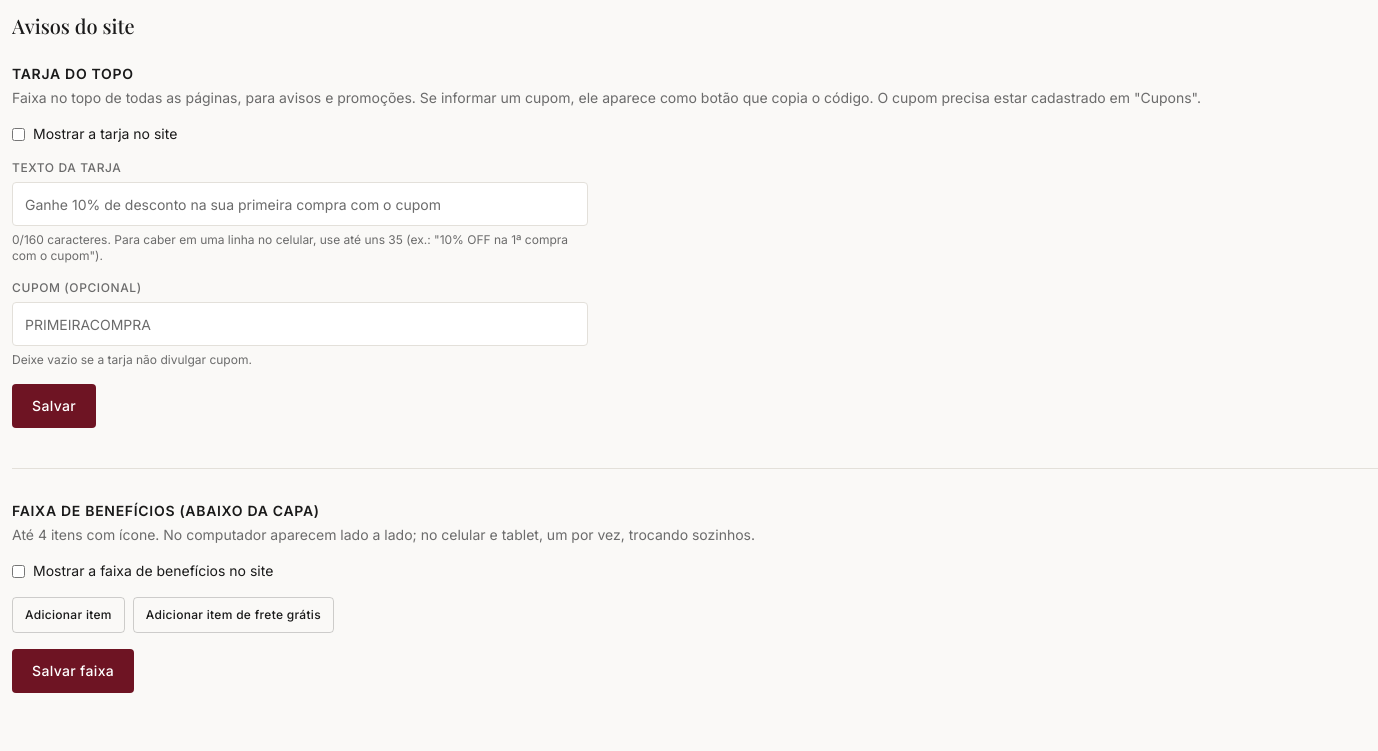
AdminTarja › mostra o erro do backend quando o cupom nao existe
This screenshot has width=1378, height=751.
Type "Oi" into the field labelled "Texto da tarja" at [300, 204], box [12,182,588,226]
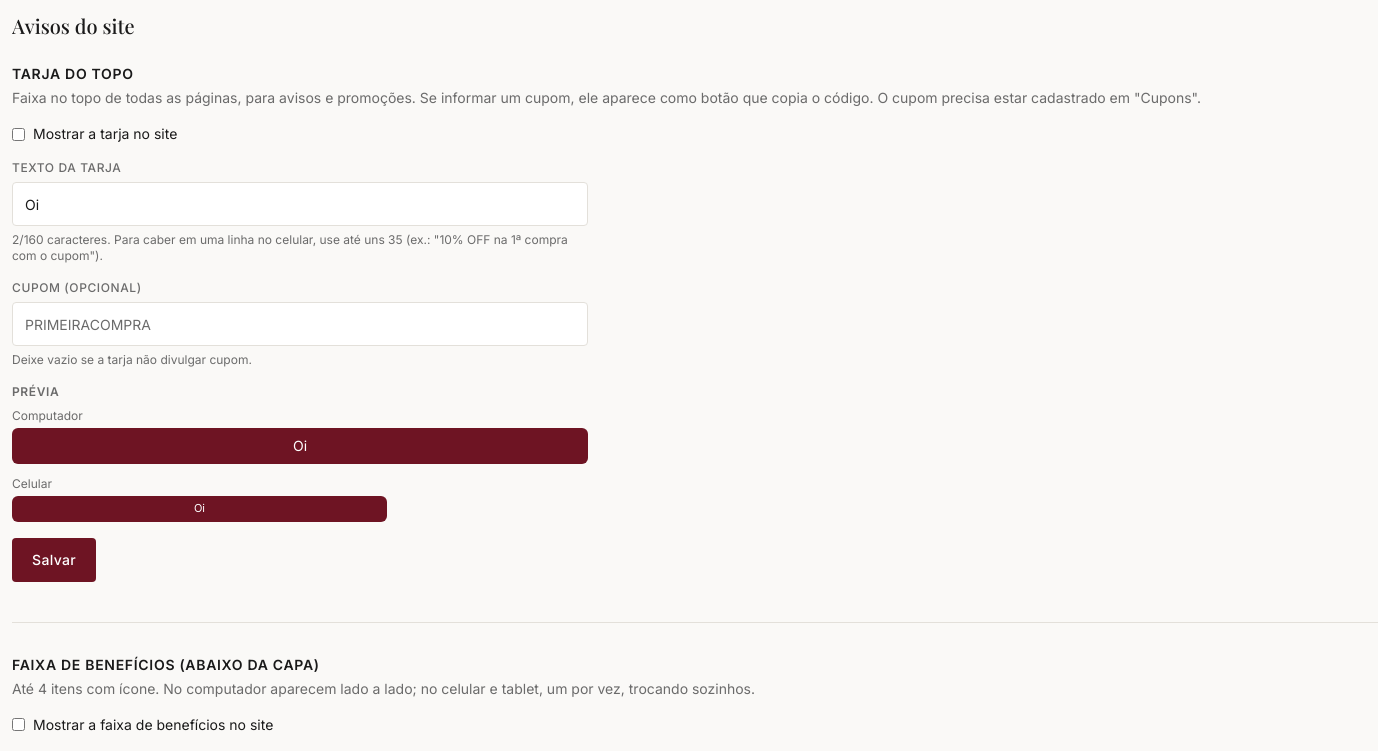
Type "xyz" into the field labelled "Cupom (opcional)" at [300, 324], box [12,302,588,346]
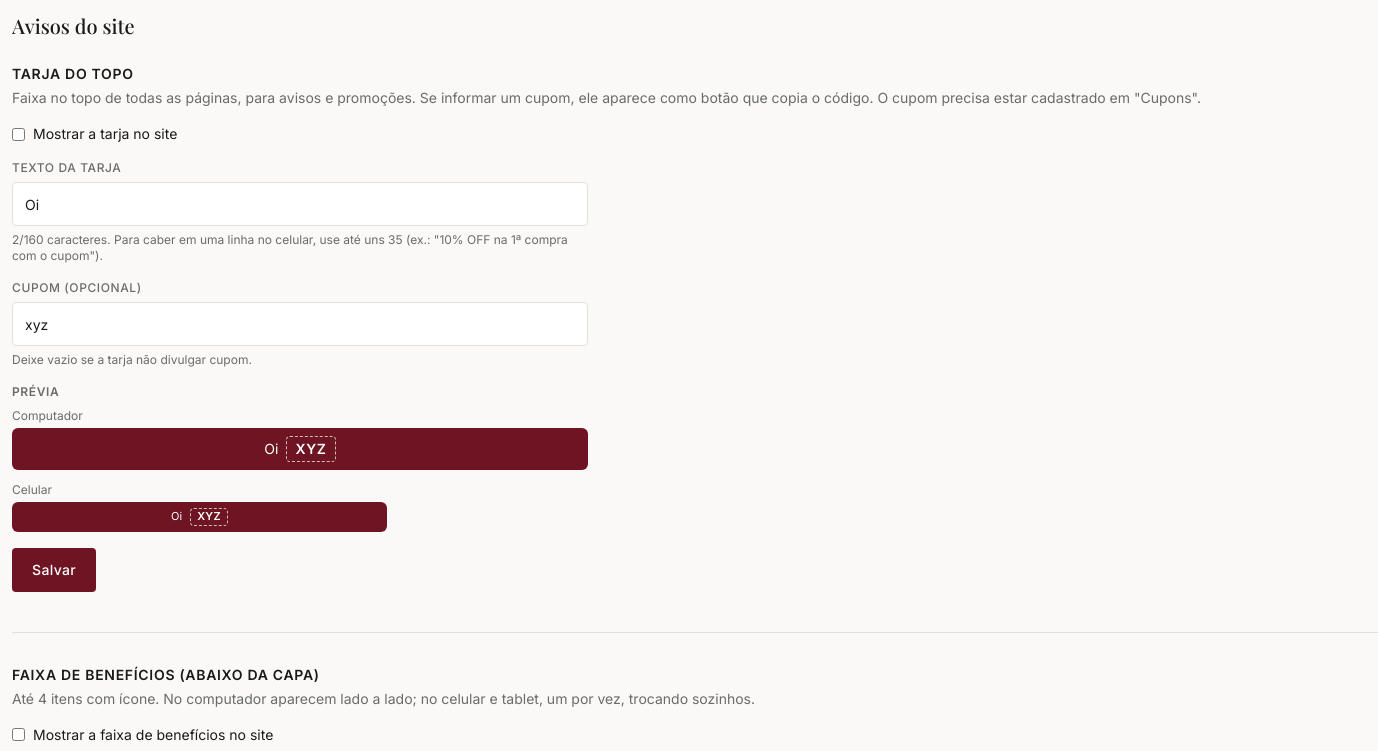
Click the button "Salvar" at [54, 570], box [12,548,96,592]
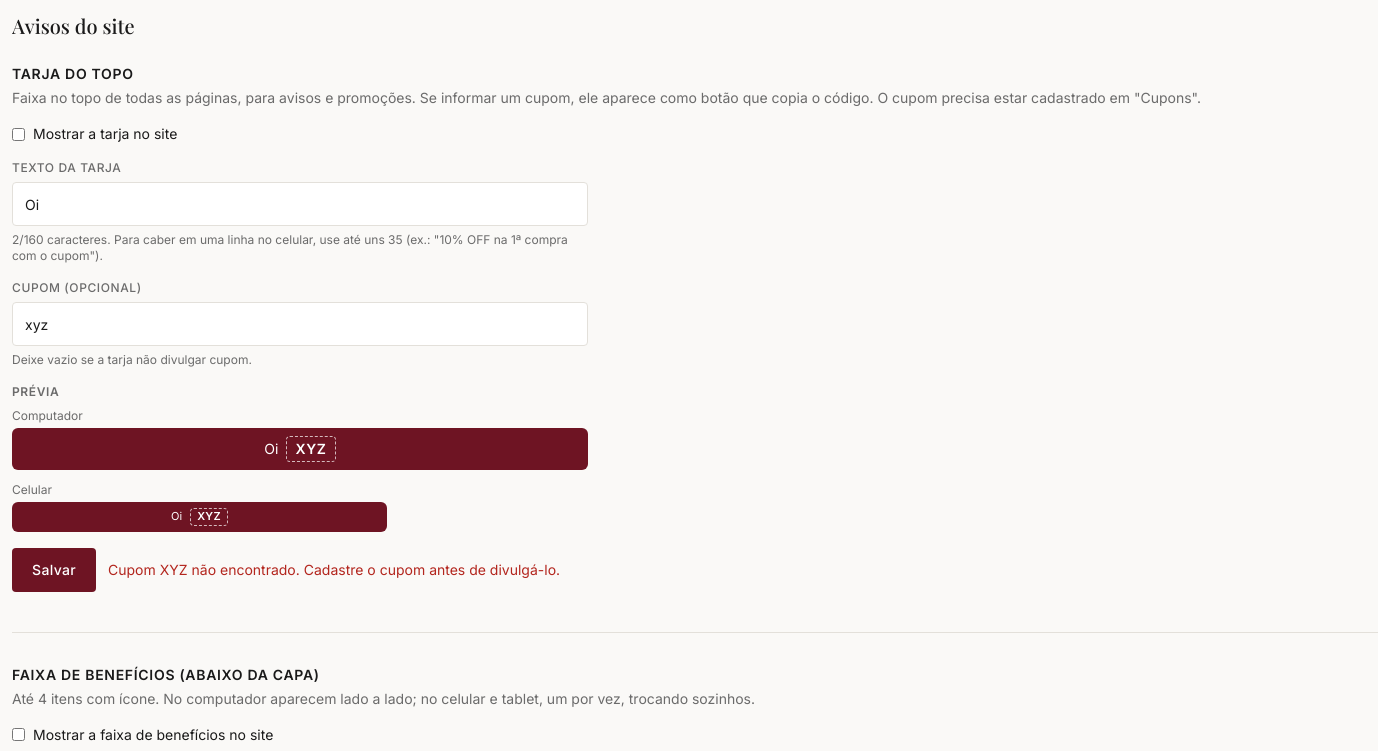
expect the message shows "Cupom XYZ não encontrado": met, box [108,561,560,578]
